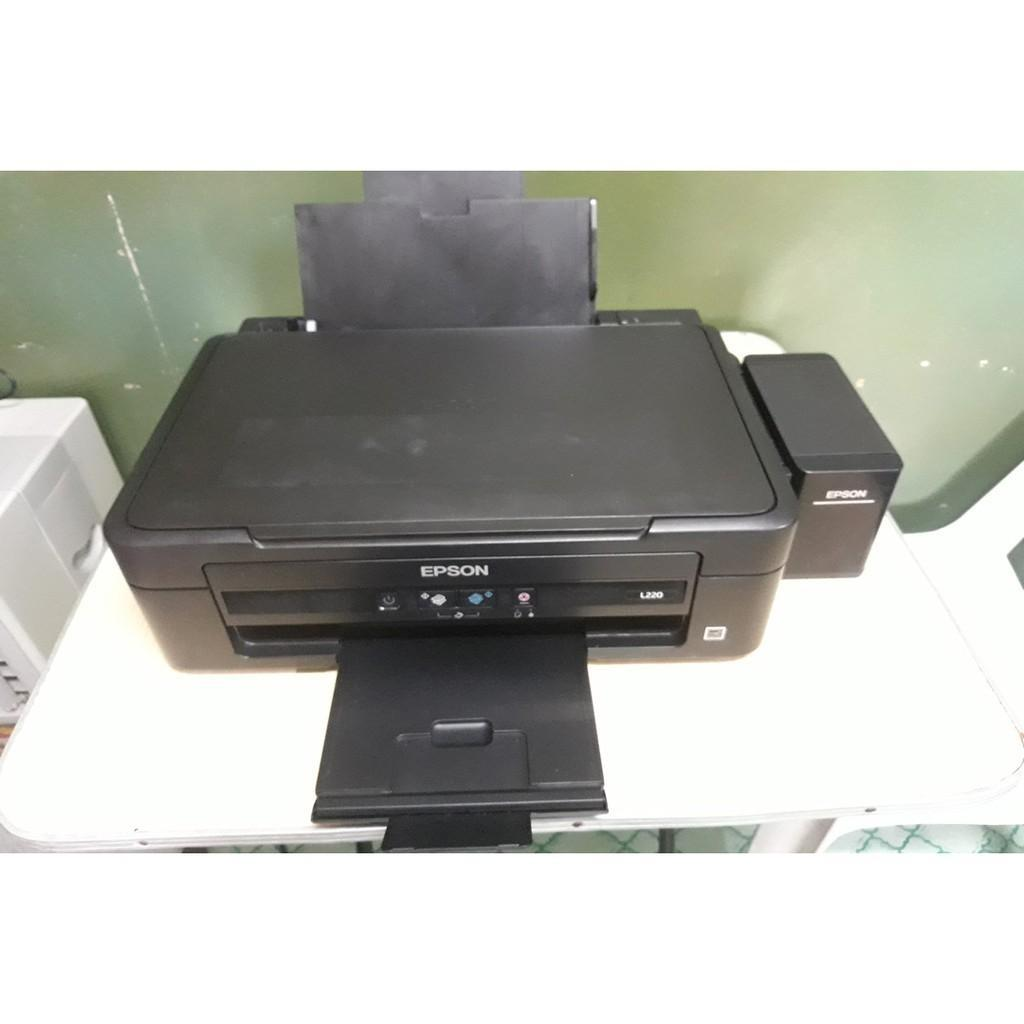Printer: (98, 171, 905, 852)
